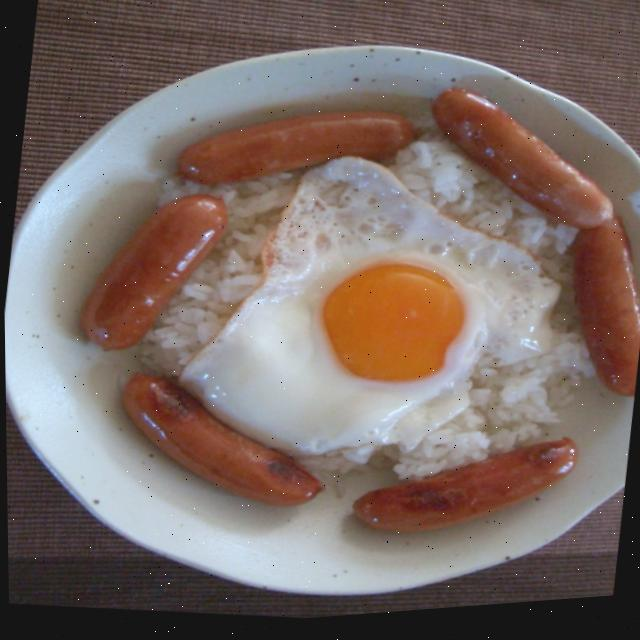鸡蛋料理: (167, 120, 574, 497)
